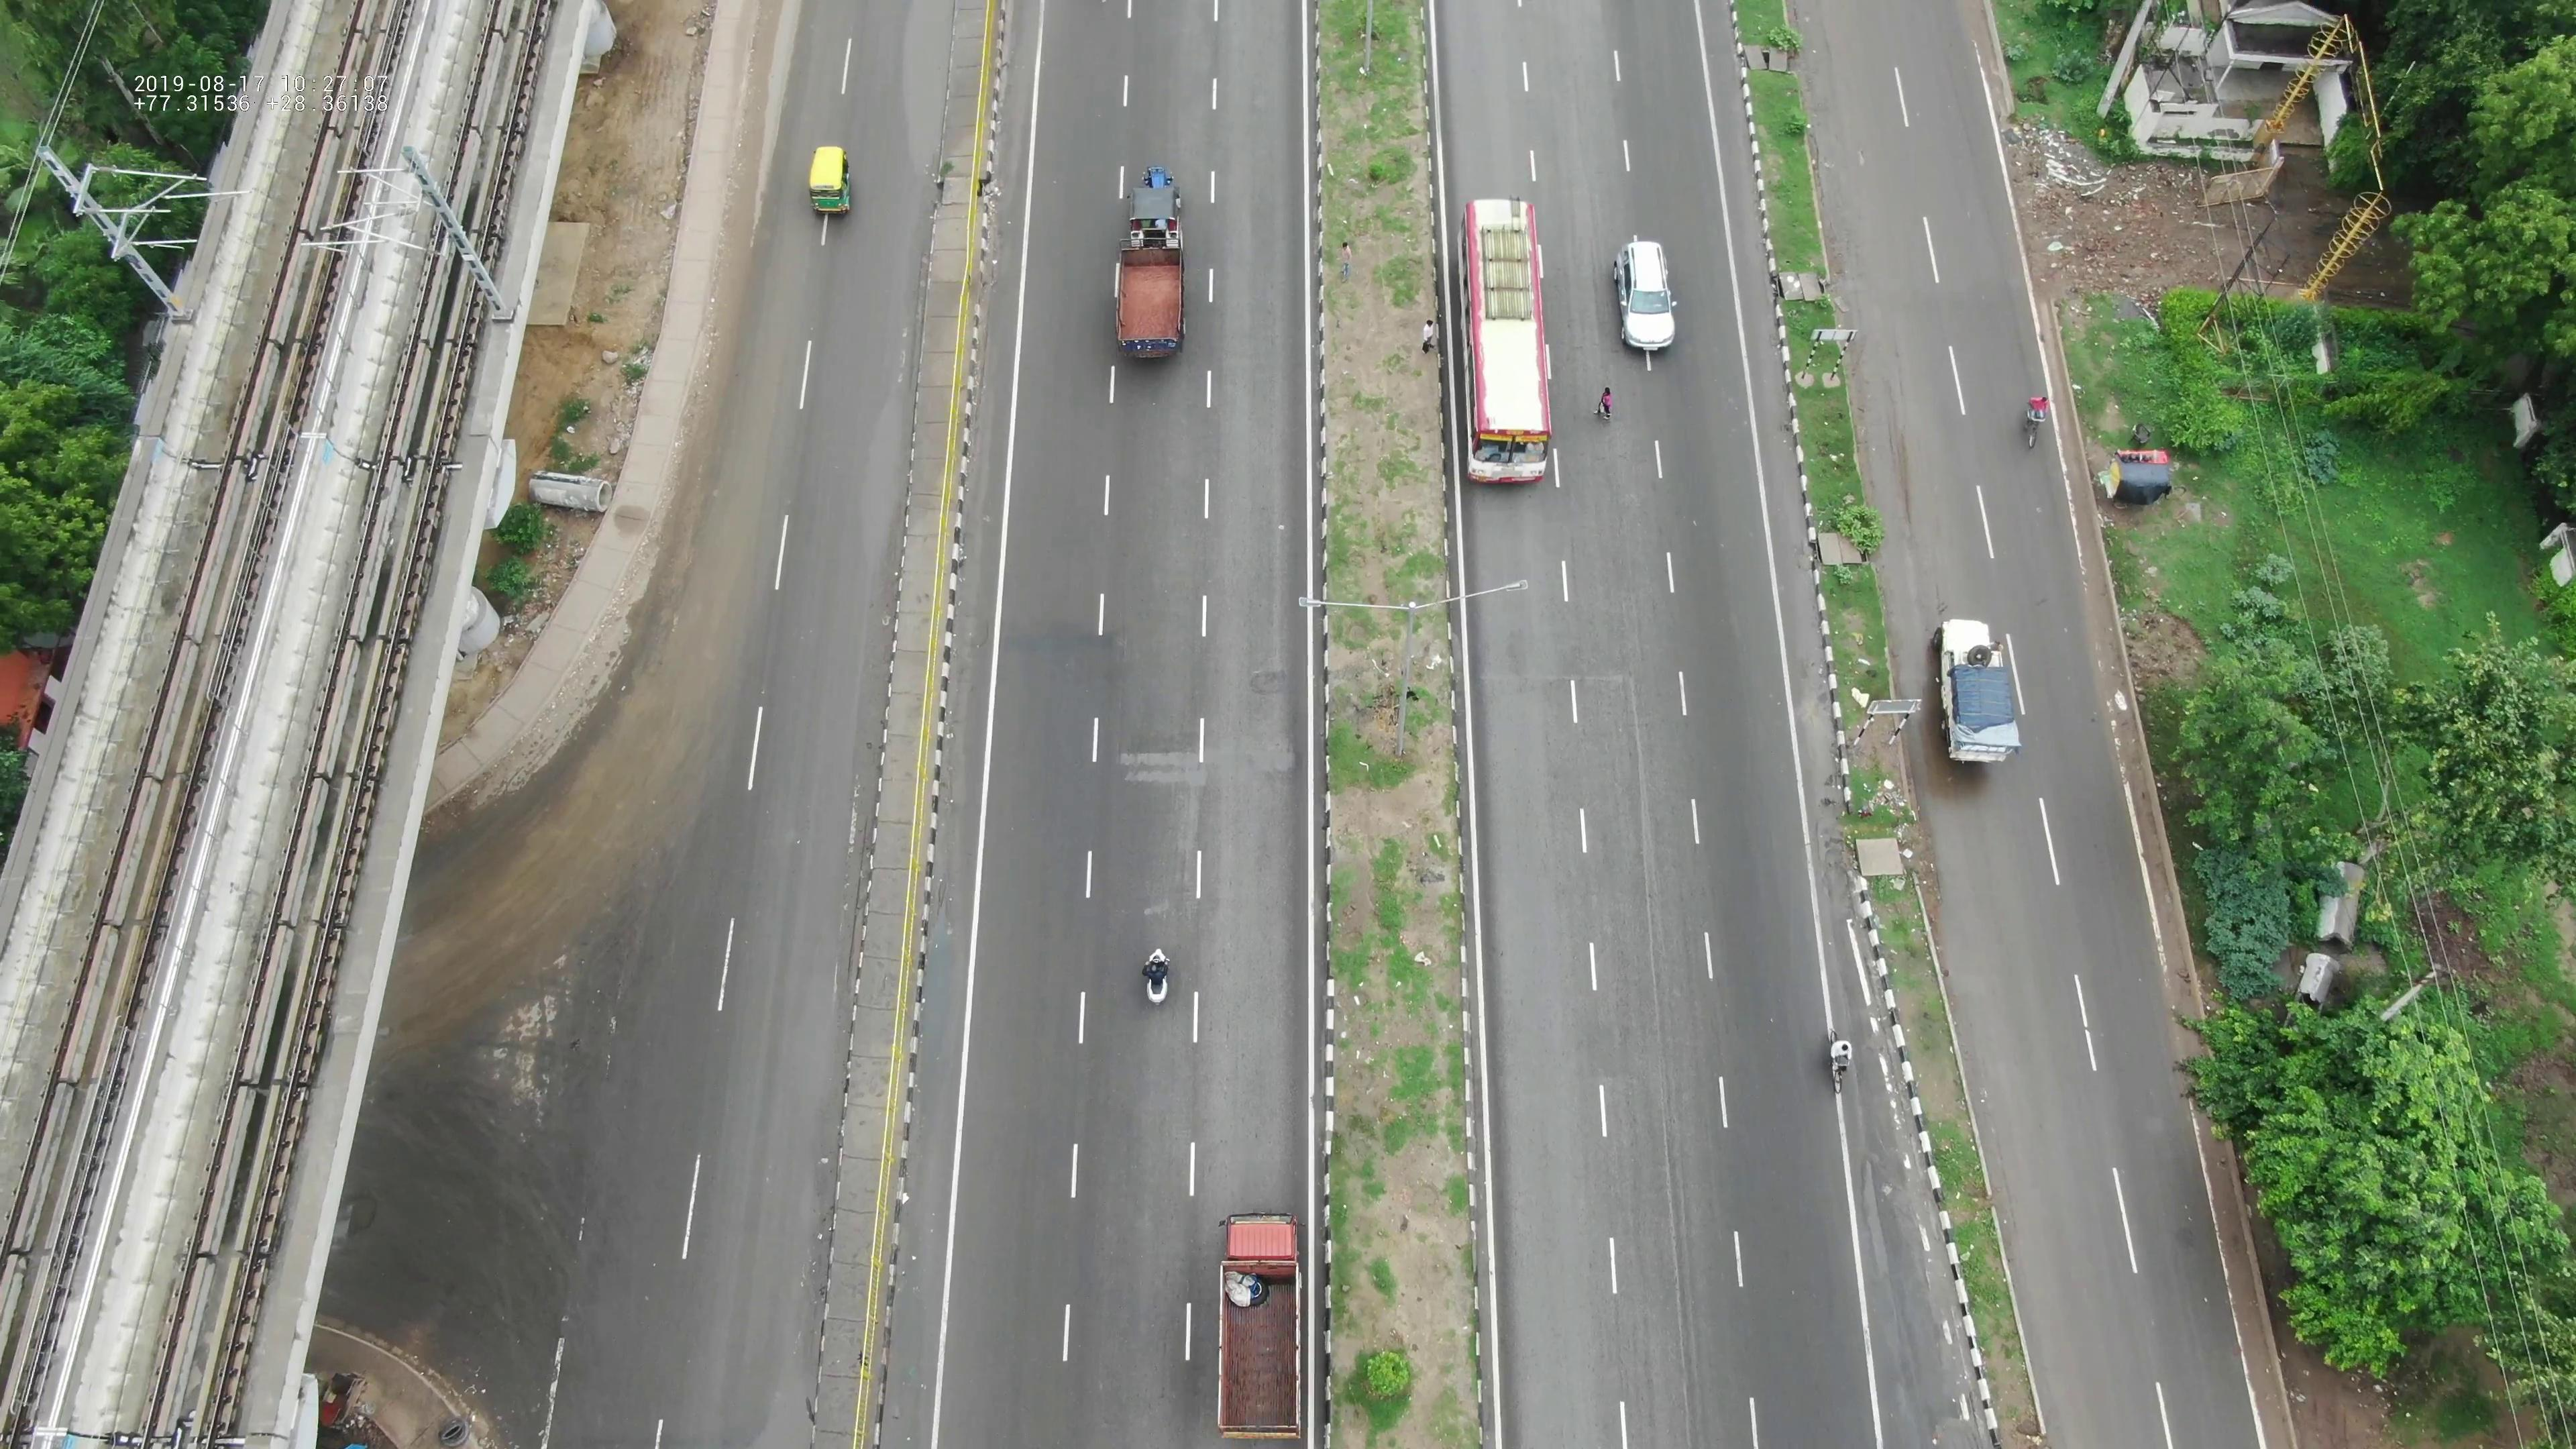Potholes: (1106, 722, 1247, 839), (1228, 663, 1299, 775)
